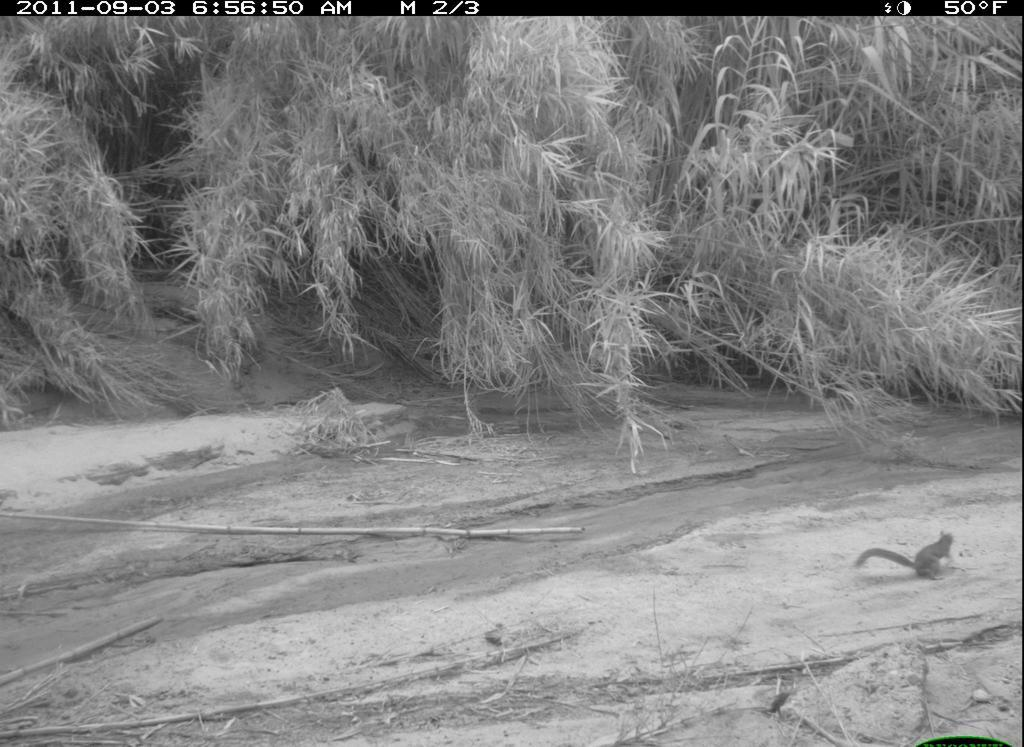squirrel: (853, 528, 960, 587)
